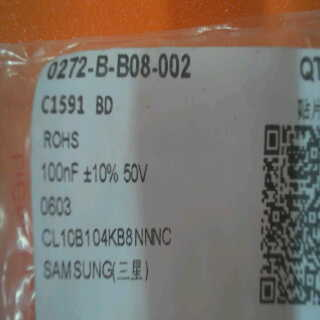100nF: (41, 155, 88, 183)
